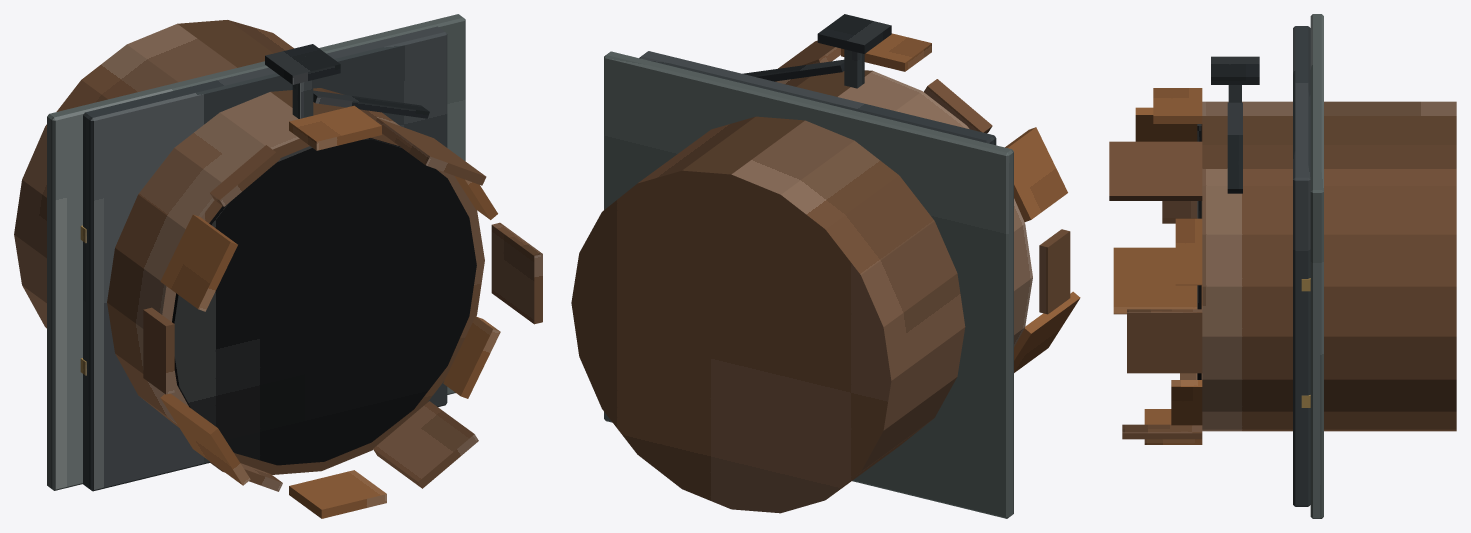
Rendered from sewer_outflow_pipe_broken.glb.
3 views of the same model, side by side, from view 1: azimuth 30°, elevation 25°; view 2: azimuth 150°, elevation 25°; view 3: azimuth 270°, elevation 25° (orthographic). The views are drawn at different scales.
Visible parts, largest first — view 1: Bore, Stub, WallFlange, WallPlate, Tooth10, Tooth05, Tooth00, Tooth09, Tooth03, Tooth07, Tooth06, Tooth02 (+6 smaller); view 2: Stub, WallPlate, WallFlange, Tooth05, Tooth06, Tooth07, HangerPlate0, Tooth03, Tooth04, SnappedStrap, Tooth02, Hanger0; view 3: Stub, WallFlange, WallPlate, Tooth02, Tooth00, Tooth07, Tooth01, Tooth03, Tooth05, SnappedStrap, Tooth11, HangerPlate0 (+3 smaller).
Part boxes in pixels (x1,y1,x2,y2): Bore: [172, 138, 476, 465]; Stub: [14, 20, 484, 474]; WallFlange: [83, 26, 447, 491]; WallPlate: [47, 14, 465, 490]; Tooth10: [373, 401, 478, 488]; Tooth05: [160, 214, 237, 311]; Tooth00: [491, 222, 542, 324]; Tooth09: [289, 470, 386, 518]; Tooth03: [289, 105, 381, 150]; Tooth07: [160, 393, 250, 485]; Tooth06: [143, 307, 174, 394]; Tooth02: [376, 118, 486, 185]; Stub: [571, 70, 1032, 513]; WallPlate: [604, 51, 1013, 518]; WallFlange: [639, 51, 996, 145]; Tooth05: [1005, 127, 1067, 221]; Tooth06: [1039, 229, 1070, 314]; Tooth07: [1014, 291, 1080, 372]; HangerPlate0: [817, 14, 891, 53]; Tooth03: [841, 33, 931, 71]; Tooth04: [924, 79, 992, 133]; SnappedStrap: [742, 59, 844, 81]; Tooth02: [775, 40, 840, 81]; Hanger0: [844, 49, 864, 88]; Stub: [1202, 101, 1456, 431]; WallFlange: [1293, 26, 1310, 506]; WallPlate: [1310, 14, 1323, 518]; Tooth02: [1109, 141, 1202, 200]; Tooth00: [1127, 309, 1202, 373]; Tooth07: [1113, 247, 1202, 314]; Tooth01: [1175, 218, 1202, 285]; Tooth03: [1153, 88, 1202, 123]; Tooth05: [1135, 107, 1202, 141]; SnappedStrap: [1227, 102, 1242, 193]; Tooth11: [1171, 380, 1202, 425]; HangerPlate0: [1211, 56, 1259, 84].
Size of the model in its own units: 1.9 by 1.82 by 1.57.
3 materials, 3 textured.
